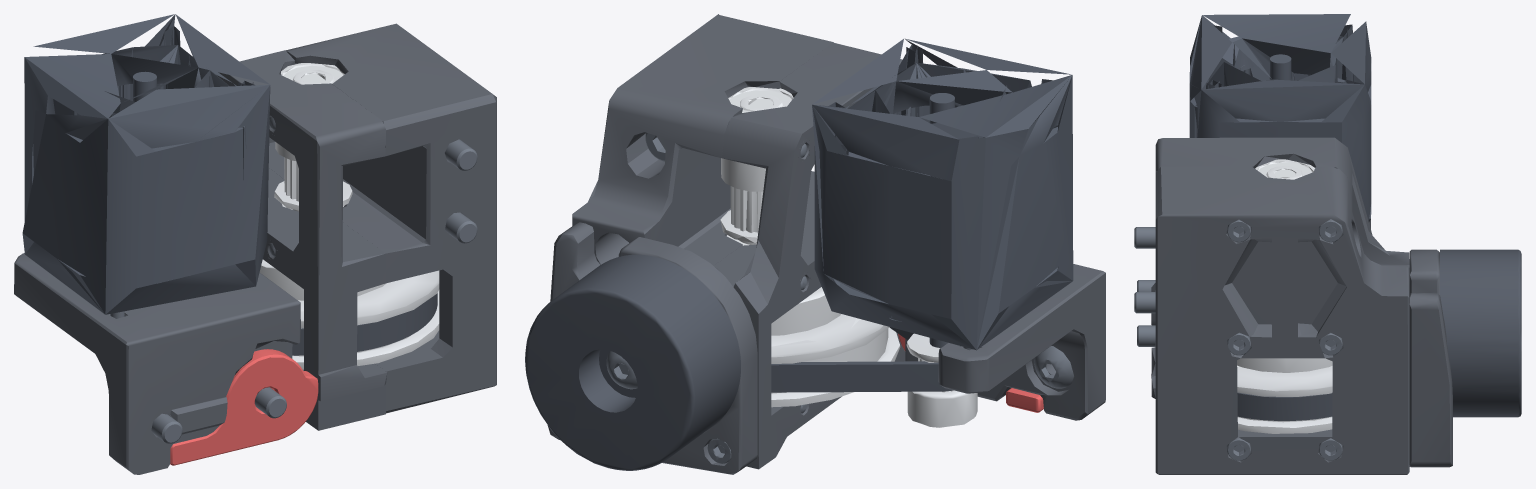
The picture shows the model from 3 angles, left to right: view 1: azimuth 30°, elevation 25°; view 2: azimuth 150°, elevation 25°; view 3: azimuth 270°, elevation 25°; orthographic projection. The views are drawn at different scales.
Visible parts, largest first — view 1: nema17_stepper__3_, compound, compound_50, z_motor_mount__3_, belt_tensioner__3_, gt2_80t_pulley_powge__3_, gt2_188mm_belt_loop__3_, gt2_20t_9mm__3_, 625_2rs__10_, m5x40_shcs__20_, m5x40_shcs__21_, m5x10_bhcs__23_ (+2 smaller); view 2: nema17_stepper__3_, rubber_foot__2_, compound, compound_50, z_motor_mount__3_, solid, gt2_80t_pulley_powge__3_, gt2_188mm_belt_loop__3_, gt2_16t__3_, gt2_20t_9mm__3_, m5x10_bhcs__24_, 625_2rs__10_ (+3 smaller); view 3: compound, nema17_stepper__3_, rubber_foot__2_, solid, compound_50, gt2_80t_pulley_powge__3_, gt2_188mm_belt_loop__3_, 625_2rs__10_, nema17_stepper__3__4, m5x40_shcs__20_, m5x40_shcs__21_, m3x40_shcs__23_ (+6 smaller).
Part boxes in pixels (left/top/right/bottom): nema17_stepper__3_: left=22, top=14, right=270, bottom=314; compound: left=268, top=23, right=496, bottom=413; compound_50: left=218, top=50, right=387, bottom=430; z_motor_mount__3_: left=14, top=253, right=300, bottom=474; belt_tensioner__3_: left=170, top=349, right=318, bottom=465; gt2_80t_pulley_powge__3_: left=259, top=259, right=439, bottom=369; gt2_188mm_belt_loop__3_: left=292, top=293, right=437, bottom=355; gt2_20t_9mm__3_: left=274, top=142, right=352, bottom=210; 625_2rs__10_: left=281, top=63, right=344, bottom=84; m5x40_shcs__20_: left=445, top=212, right=477, bottom=243; m5x40_shcs__21_: left=445, top=139, right=477, bottom=170; m5x10_bhcs__23_: left=254, top=387, right=286, bottom=418; nema17_stepper__3_: left=812, top=38, right=1073, bottom=350; rubber_foot__2_: left=525, top=254, right=740, bottom=470; compound: left=572, top=14, right=833, bottom=265; compound_50: left=714, top=42, right=905, bottom=469; z_motor_mount__3_: left=905, top=264, right=1105, bottom=420; solid: left=547, top=222, right=757, bottom=474; gt2_80t_pulley_powge__3_: left=771, top=287, right=900, bottom=407; gt2_188mm_belt_loop__3_: left=771, top=327, right=952, bottom=392; gt2_16t__3_: left=906, top=333, right=977, bottom=427; gt2_20t_9mm__3_: left=720, top=158, right=765, bottom=243; m5x10_bhcs__24_: left=1034, top=346, right=1073, bottom=388; 625_2rs__10_: left=728, top=87, right=793, bottom=112; compound: left=1155, top=166, right=1409, bottom=474; nema17_stepper__3_: left=1189, top=14, right=1371, bottom=221; rubber_foot__2_: left=1440, top=249, right=1521, bottom=417; solid: left=1409, top=249, right=1452, bottom=467; compound_50: left=1151, top=137, right=1409, bottom=398; gt2_80t_pulley_powge__3_: left=1237, top=358, right=1332, bottom=433; gt2_188mm_belt_loop__3_: left=1237, top=392, right=1332, bottom=420; 625_2rs__10_: left=1255, top=159, right=1314, bottom=179; nema17_stepper__3__4: left=1270, top=54, right=1291, bottom=80; m5x40_shcs__20_: left=1134, top=292, right=1155, bottom=313; m5x40_shcs__21_: left=1134, top=227, right=1155, bottom=248; m3x40_shcs__23_: left=1227, top=437, right=1250, bottom=460.
Bounding box in the file's own units: 0.0901 × 0.0777 × 0.09.
